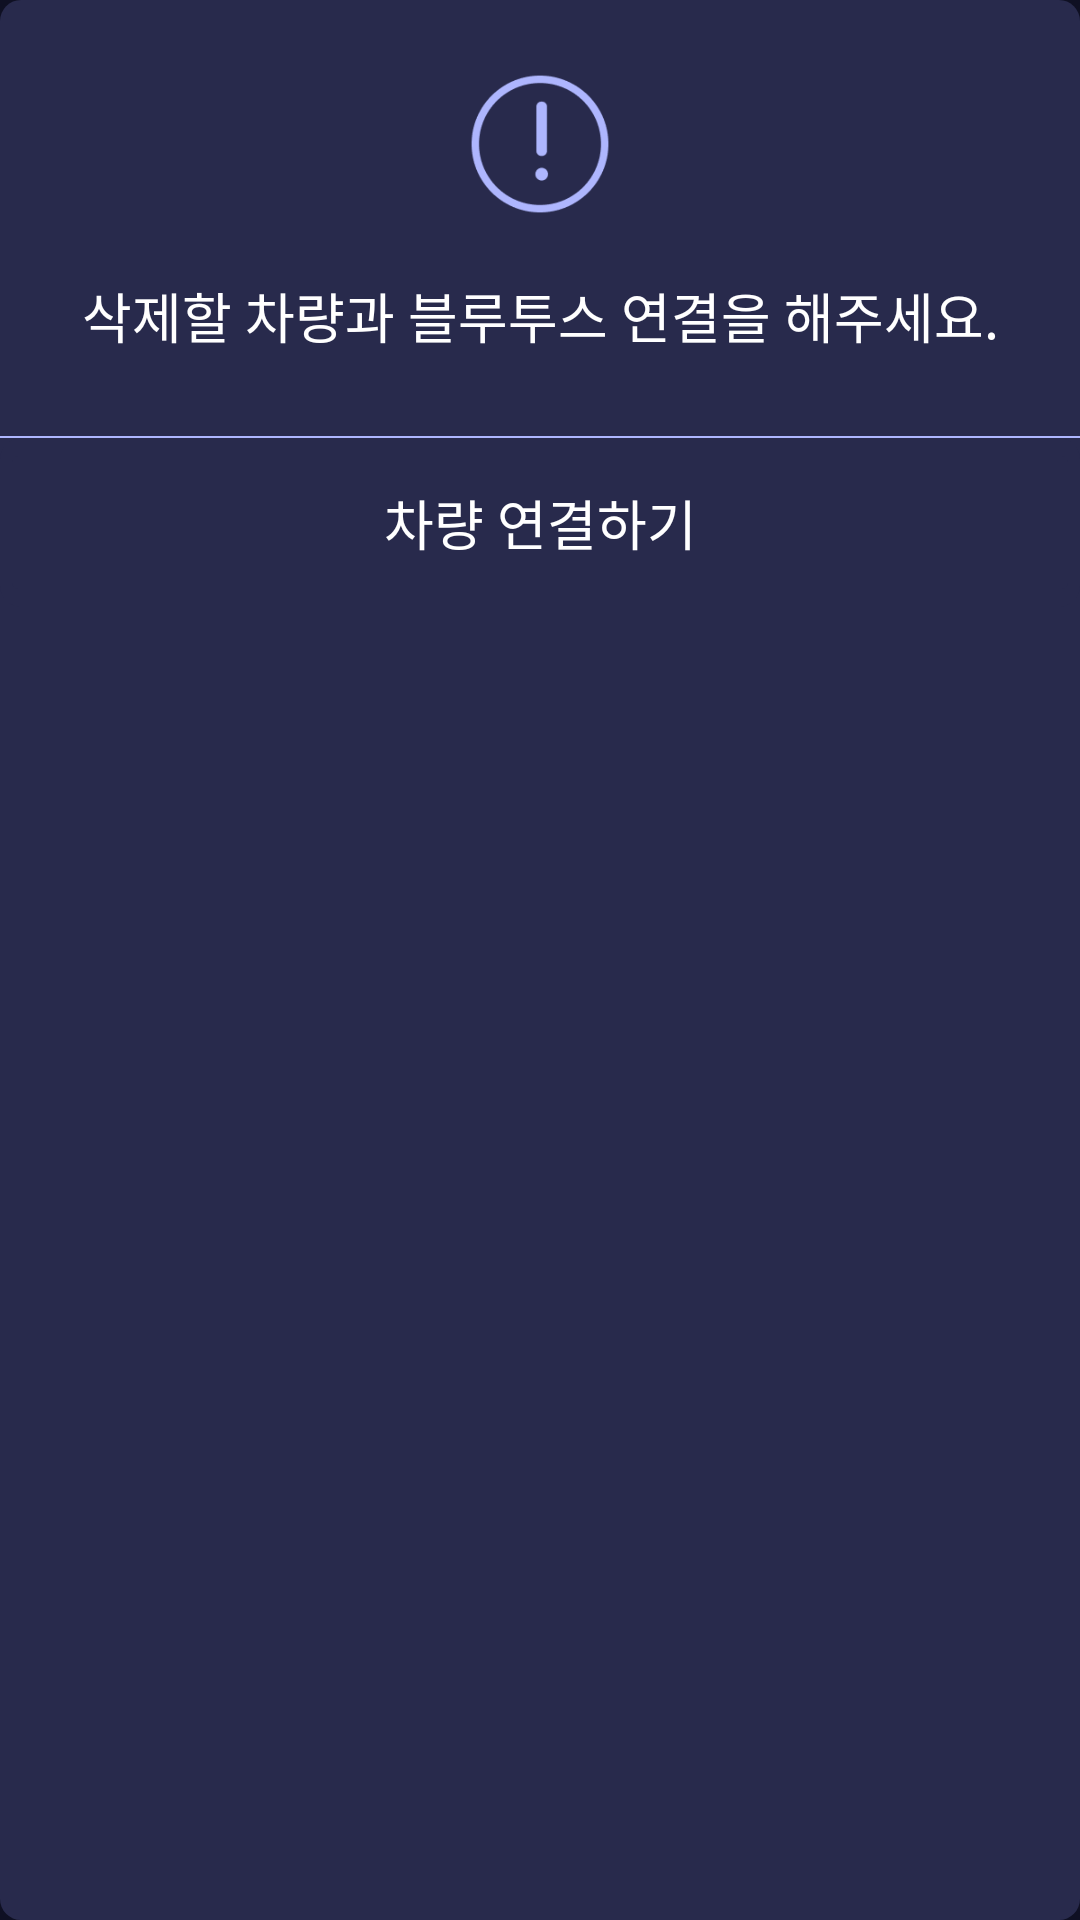

Icon bounding boxes for this 1080x1920 phone screenshot, format [x1,y1,x2,y2]:
caution: [471,75,609,213]
